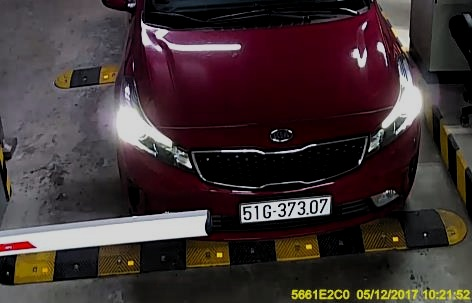plate: (235, 191, 335, 222)
